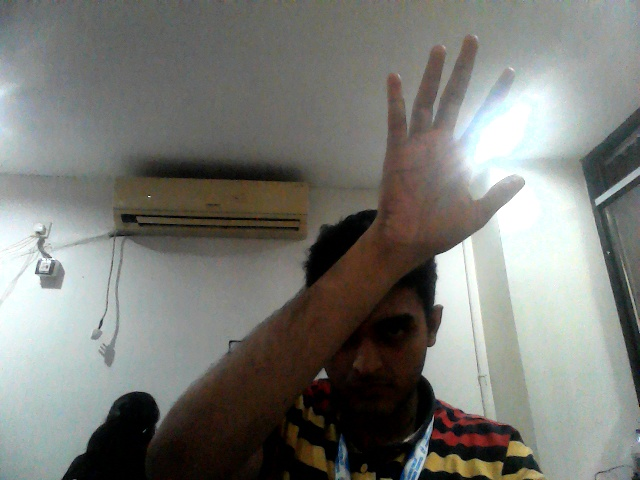palm: (379, 29, 528, 262)
